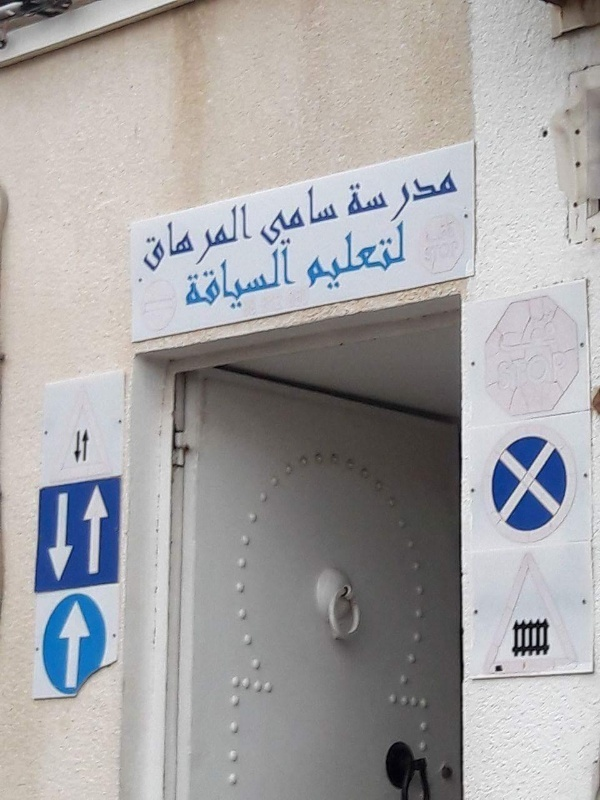text: (145, 200, 160, 279), (161, 200, 176, 279), (177, 200, 192, 279), (193, 200, 208, 279), (209, 200, 224, 279), (225, 200, 240, 279), (193, 244, 208, 322), (209, 244, 224, 322), (225, 244, 240, 322), (241, 244, 256, 322), (257, 244, 272, 322), (273, 244, 288, 322), (321, 220, 336, 297), (337, 220, 352, 297), (353, 220, 368, 297), (369, 220, 384, 297), (385, 220, 400, 297), (353, 161, 368, 234), (369, 161, 384, 234), (385, 161, 400, 234), (401, 161, 416, 234), (417, 161, 432, 234), (433, 161, 448, 234), (257, 180, 272, 251), (273, 180, 288, 251), (289, 180, 304, 251), (305, 180, 320, 251), (321, 180, 336, 251), (241, 200, 254, 279), (307, 220, 320, 297), (180, 244, 192, 322), (449, 161, 461, 234), (341, 161, 352, 234), (513, 309, 528, 356), (529, 309, 544, 356), (545, 309, 560, 356), (497, 347, 512, 392), (513, 347, 528, 392), (529, 347, 544, 392), (545, 347, 560, 392), (498, 309, 512, 356), (401, 220, 408, 297), (289, 244, 295, 322), (561, 347, 571, 392), (433, 220, 448, 246), (433, 239, 448, 264), (337, 180, 342, 251), (449, 220, 461, 246), (449, 239, 461, 264), (422, 220, 432, 246), (422, 239, 432, 264), (561, 309, 565, 356), (142, 200, 144, 279)
